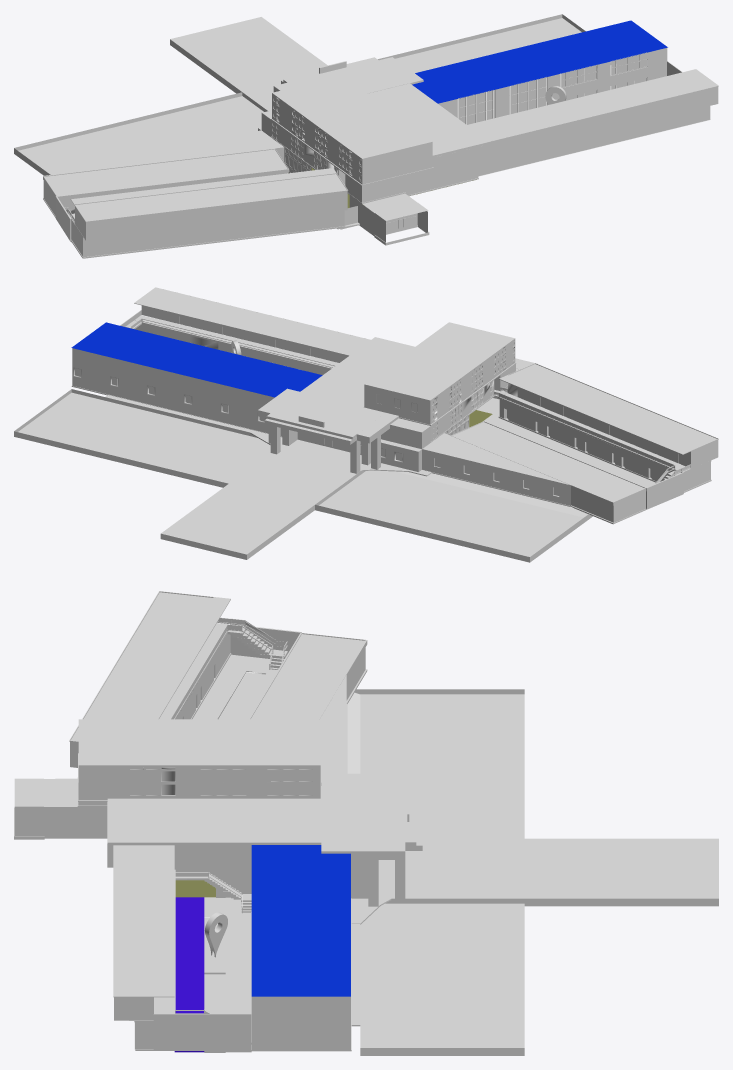
Rendered from Finale 12.gltf.
3 renders of one model, top to bottom at view 1: azimuth 30°, elevation 25°; view 2: azimuth 150°, elevation 25°; view 3: azimuth 270°, elevation 25°, orthographic. The views are drawn at different scales.
Parts seen in each view (by area): view 1: building_134.001, building_008.001, Plane.025, Plane.012, Cube.104, building_008.003, building_048.008, Plane.021, building_004.003, building_048.005, Cube.107, Plane.013 (+19 smaller); view 2: building_134.001, Cube.104, Plane.013, Plane.025, building_008.003, building_048.008, building_131.001, Plane.021, building_004.003, building_008.005, building_048.005, building_008.001 (+22 smaller); view 3: building_134.001, Cube.104, Plane.025, building_048.008, Cube.107, building_008.003, Plane.021, Cube.105, building_004.003, Plane.026, Cube.008, Cube.007 (+27 smaller).
Boxes of the visible parts, x1,y1,x2,y2 form: building_134.001: [18, 18, 616, 174]; building_008.001: [64, 191, 347, 258]; Plane.025: [412, 20, 667, 103]; Plane.012: [478, 73, 718, 176]; Cube.104: [170, 17, 327, 111]; building_008.003: [70, 168, 348, 222]; building_048.008: [272, 75, 432, 158]; Plane.021: [467, 69, 718, 141]; building_004.003: [44, 149, 287, 196]; building_048.005: [271, 93, 433, 185]; Cube.107: [367, 83, 489, 157]; Plane.013: [438, 48, 667, 123]; building_134.001: [14, 392, 583, 562]; Cube.104: [160, 456, 352, 559]; Plane.013: [71, 327, 302, 437]; Plane.025: [71, 322, 322, 397]; building_008.003: [499, 363, 718, 454]; building_048.008: [364, 322, 514, 400]; building_131.001: [422, 433, 570, 506]; Plane.021: [134, 287, 370, 355]; building_004.003: [453, 422, 644, 501]; building_008.005: [499, 383, 690, 478]; building_048.005: [364, 338, 516, 425]; building_008.001: [498, 387, 718, 492]; building_134.001: [354, 689, 524, 1055]; Cube.104: [418, 838, 718, 906]; Plane.025: [251, 845, 350, 996]; building_048.008: [78, 719, 320, 765]; Cube.107: [107, 798, 321, 845]; building_008.003: [69, 591, 230, 741]; Plane.021: [114, 845, 174, 996]; Cube.105: [321, 782, 416, 845]; building_004.003: [251, 634, 364, 719]; Plane.026: [251, 996, 350, 1050]; Cube.008: [153, 1014, 251, 1050]; Cube.007: [174, 897, 204, 1052].
Bounding box in the file's own units: 131 × 14.69 × 96.83.
